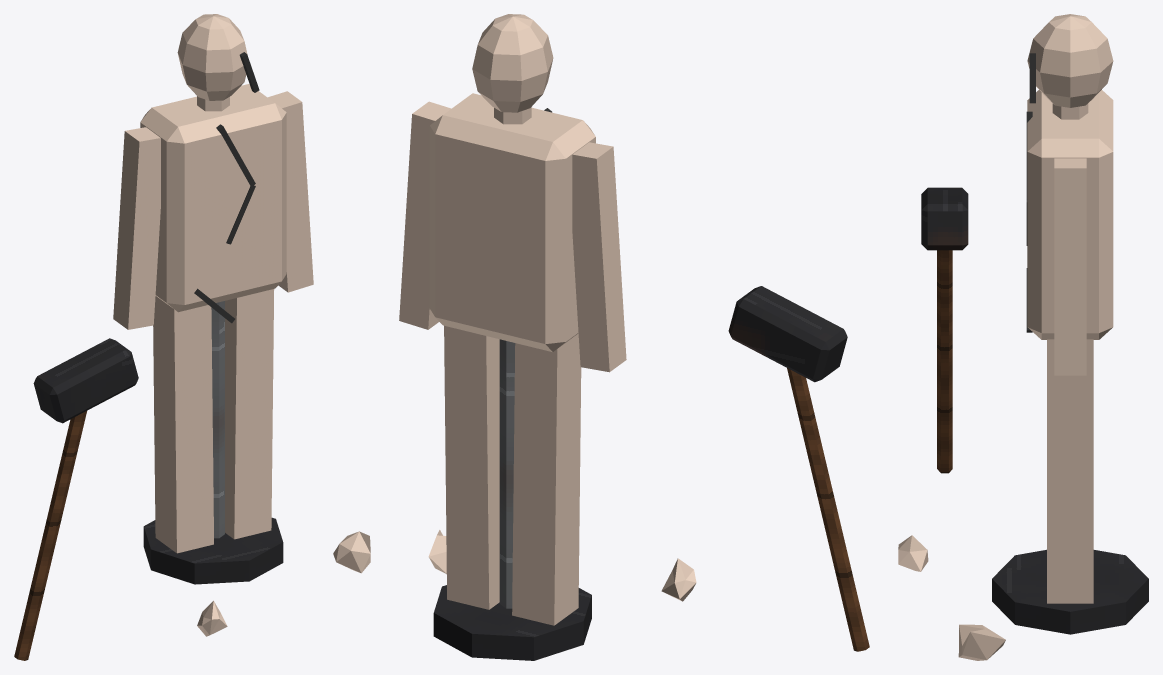
File: rage_dummy.glb
3 renders of one model, left to right at view 1: azimuth 30°, elevation 25°; view 2: azimuth 150°, elevation 25°; view 3: azimuth 270°, elevation 25°, orthographic. The views are drawn at different scales.
Parts seen in each view (by area): view 1: rage_dummy; view 2: rage_dummy; view 3: rage_dummy.
Boxes of the visible parts, x1=… form: rage_dummy: x1=14, y1=14, x2=370, y2=660; rage_dummy: x1=399, y1=14, x2=869, y2=660; rage_dummy: x1=898, y1=14, x2=1148, y2=660.
Size of what is drawn, in the model's own units: 1.46 by 2.1 by 0.7992.
Materials: 5 (3 with a texture image).
